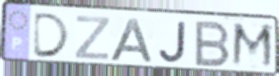A: (108, 16, 156, 64)
B: (193, 19, 233, 69)
D: (31, 11, 72, 59)
J: (157, 20, 188, 65)
M: (229, 21, 276, 72)
Z: (73, 14, 112, 62)
